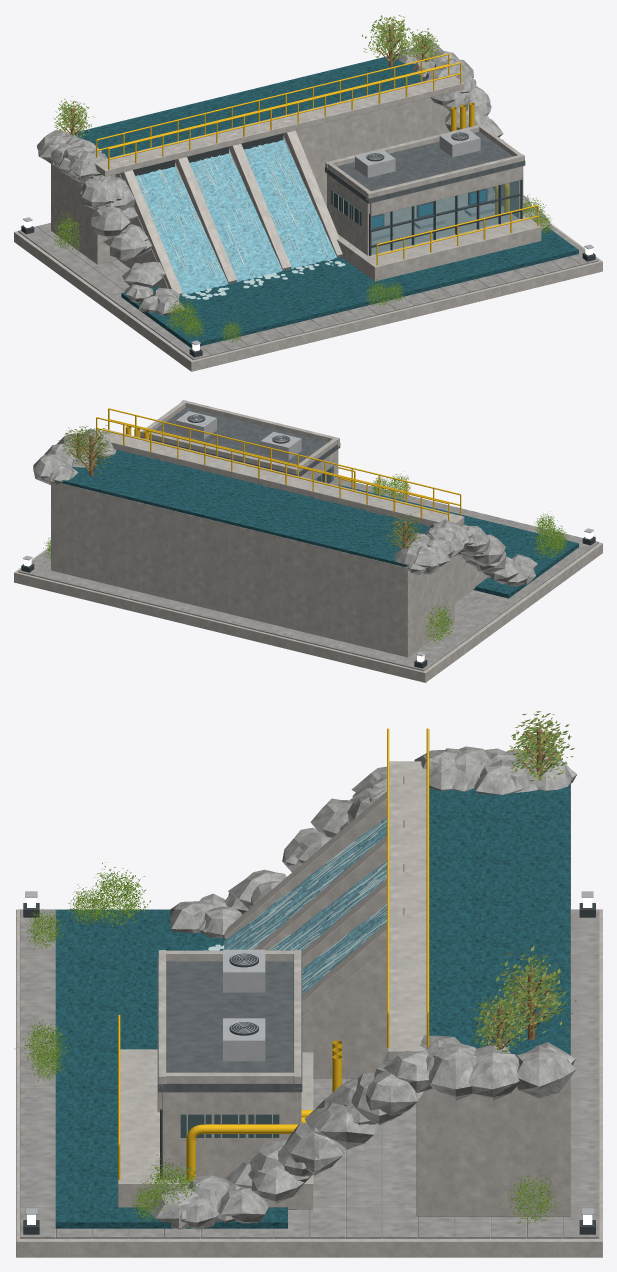
The model's file is central_hidroelectrica.fbx.
3 views of the same model, one above another, from view 1: azimuth 30°, elevation 25°; view 2: azimuth 150°, elevation 25°; view 3: azimuth 270°, elevation 25° (orthographic). The views are drawn at different scales.
Visible parts, largest first — view 1: Embalse y aliviaderos · Agua turquesa, Embalse y aliviaderos · Prefabricado caliza, Embalse y aliviaderos · Velo de agua, Casa de máquinas · Prefabricado caliza, Embalse y aliviaderos · Árido gris, Solar · Loseta mineral, Solar · Prefabricado caliza, Embalse y aliviaderos · Espuma, Casa de máquinas · Cristal de control, Casa de máquinas · Membrana bituminosa, Embalse y aliviaderos · Amarillo de pasarelas, Casa de máquinas · Inox cepillado (+9 smaller); view 2: Embalse y aliviaderos · Prefabricado caliza, Embalse y aliviaderos · Agua turquesa, Solar · Loseta mineral, Solar · Prefabricado caliza, Embalse y aliviaderos · Árido gris, Embalse y aliviaderos · Amarillo de pasarelas, Casa de máquinas · Prefabricado caliza, Casa de máquinas · Membrana bituminosa, Casa de máquinas · Inox cepillado, Jardinería de la parcela · Abeto cepillado, Jardinería de la parcela · Hojas 2, Jardinería de la parcela · Hojas 0 (+3 smaller); view 3: Embalse y aliviaderos · Agua turquesa, Embalse y aliviaderos · Prefabricado caliza, Solar · Loseta mineral, Embalse y aliviaderos · Árido gris, Casa de máquinas · Prefabricado caliza, Solar · Prefabricado caliza, Casa de máquinas · Membrana bituminosa, Embalse y aliviaderos · Velo de agua, Casa de máquinas · Inox cepillado, Embalse y aliviaderos · Espuma, Jardinería de la parcela · Hojas 2, Jardinería de la parcela · Hojas 1 (+14 smaller).
Part boxes in pixels (x1,y1,x2,y2): Embalse y aliviaderos · Agua turquesa: [74, 54, 578, 348]; Embalse y aliviaderos · Prefabricado caliza: [51, 76, 464, 295]; Embalse y aliviaderos · Velo de agua: [136, 138, 336, 295]; Casa de máquinas · Prefabricado caliza: [325, 124, 541, 281]; Embalse y aliviaderos · Árido gris: [37, 42, 550, 315]; Solar · Loseta mineral: [18, 223, 598, 359]; Solar · Prefabricado caliza: [14, 224, 602, 371]; Embalse y aliviaderos · Espuma: [135, 140, 345, 299]; Casa de máquinas · Cristal de control: [371, 180, 520, 254]; Casa de máquinas · Membrana bituminosa: [325, 131, 525, 203]; Embalse y aliviaderos · Amarillo de pasarelas: [96, 53, 461, 169]; Casa de máquinas · Inox cepillado: [332, 129, 494, 240]; Embalse y aliviaderos · Prefabricado caliza: [51, 429, 487, 657]; Embalse y aliviaderos · Agua turquesa: [61, 449, 578, 598]; Solar · Loseta mineral: [18, 479, 598, 671]; Solar · Prefabricado caliza: [14, 542, 602, 682]; Embalse y aliviaderos · Árido gris: [33, 429, 537, 586]; Embalse y aliviaderos · Amarillo de pasarelas: [96, 408, 461, 520]; Casa de máquinas · Prefabricado caliza: [140, 400, 339, 485]; Casa de máquinas · Membrana bituminosa: [140, 407, 340, 476]; Casa de máquinas · Inox cepillado: [176, 411, 332, 482]; Jardinería de la parcela · Abeto cepillado: [69, 432, 415, 549]; Jardinería de la parcela · Hojas 2: [63, 426, 422, 550]; Jardinería de la parcela · Hojas 0: [62, 425, 421, 552]; Embalse y aliviaderos · Agua turquesa: [55, 782, 570, 1228]; Embalse y aliviaderos · Prefabricado caliza: [224, 761, 570, 1216]; Solar · Loseta mineral: [20, 909, 599, 1238]; Embalse y aliviaderos · Árido gris: [147, 746, 577, 1229]; Casa de máquinas · Prefabricado caliza: [118, 950, 313, 1209]; Solar · Prefabricado caliza: [16, 909, 602, 1257]; Casa de máquinas · Membrana bituminosa: [157, 957, 302, 1092]; Embalse y aliviaderos · Velo de agua: [224, 817, 386, 994]; Casa de máquinas · Inox cepillado: [186, 949, 272, 1138]; Embalse y aliviaderos · Espuma: [204, 820, 386, 990]; Jardinería de la parcela · Hojas 2: [474, 711, 571, 1052]; Jardinería de la parcela · Hojas 1: [473, 713, 573, 1049].
Bounding box in the file's own units: 15.52 × 5.51 × 11.54.
22 materials, 8 textured.
